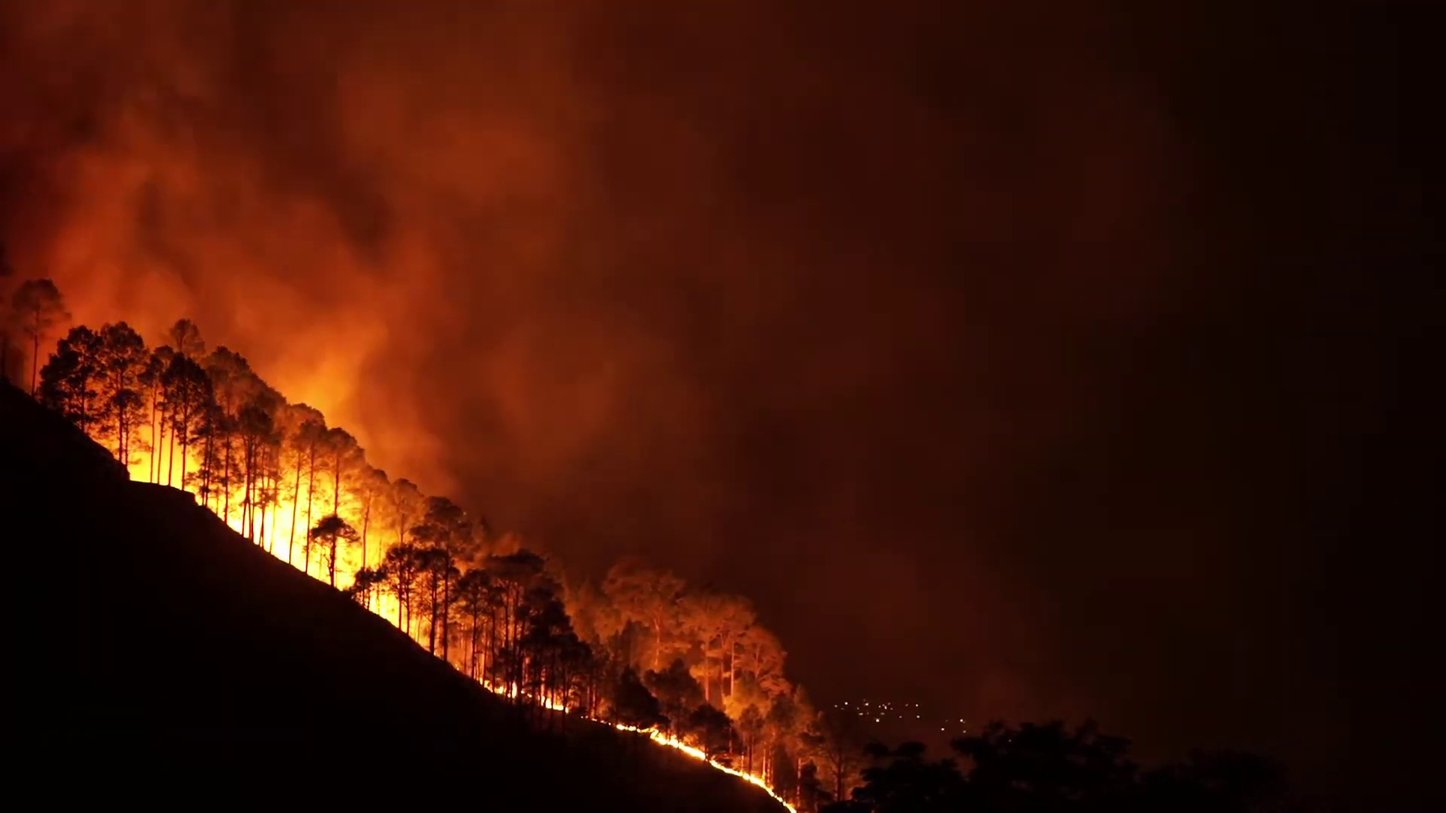forest_fire: (13, 279, 822, 810), (5, 364, 8, 373)
